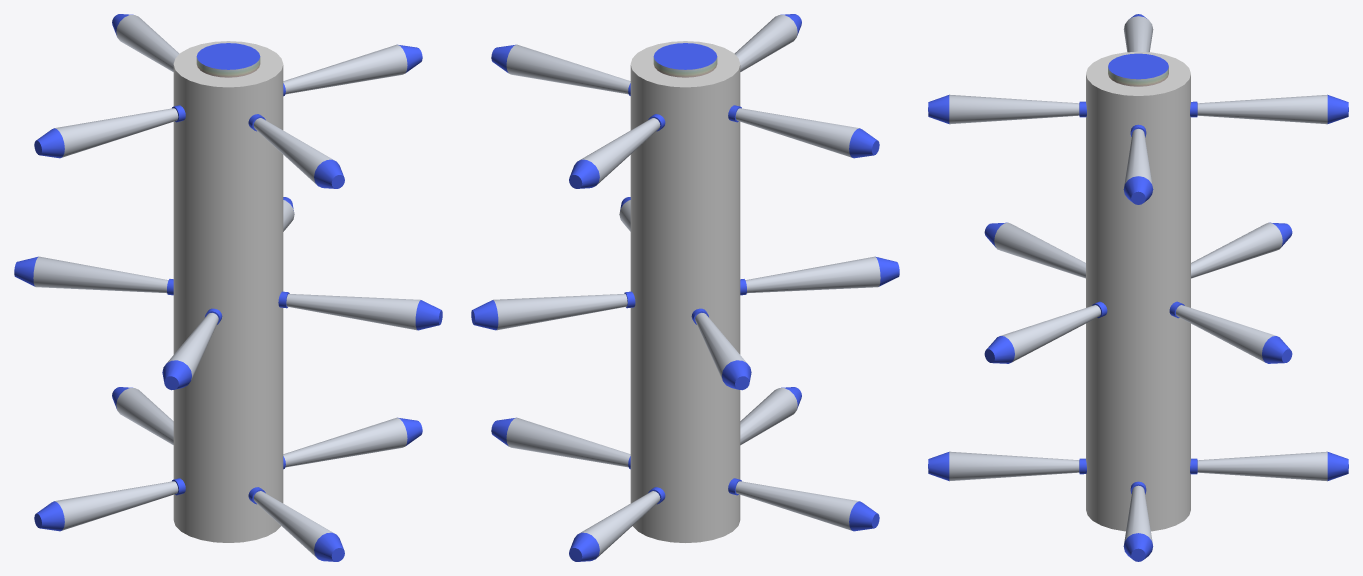
The model's file is Spin Blue L.fbx.
3 renders of one model, left to right at view 1: azimuth 30°, elevation 25°; view 2: azimuth 150°, elevation 25°; view 3: azimuth 270°, elevation 25°, orthographic. The views are drawn at different scales.
Visible parts, largest first — view 1: Spin Blue L, Spin Blue L.003, Spin Blue L.001, Spin Blue L.002; view 2: Spin Blue L, Spin Blue L.003, Spin Blue L.001, Spin Blue L.002; view 3: Spin Blue L, Spin Blue L.002, Spin Blue L.003, Spin Blue L.001.
Part boxes in pixels (left/top/right/bottom): Spin Blue L: left=173, top=41, right=283, bottom=542; Spin Blue L.003: left=34, top=14, right=422, bottom=188; Spin Blue L.001: left=34, top=387, right=422, bottom=561; Spin Blue L.002: left=14, top=197, right=442, bottom=390; Spin Blue L: left=630, top=41, right=740, bottom=542; Spin Blue L.003: left=491, top=14, right=879, bottom=188; Spin Blue L.001: left=491, top=387, right=879, bottom=561; Spin Blue L.002: left=471, top=197, right=899, bottom=390; Spin Blue L: left=1086, top=51, right=1190, bottom=531; Spin Blue L.002: left=984, top=222, right=1292, bottom=363; Spin Blue L.003: left=928, top=14, right=1348, bottom=204; Spin Blue L.001: left=928, top=451, right=1348, bottom=561.
Bounding box in the file's own units: 290 × 343 × 290.
